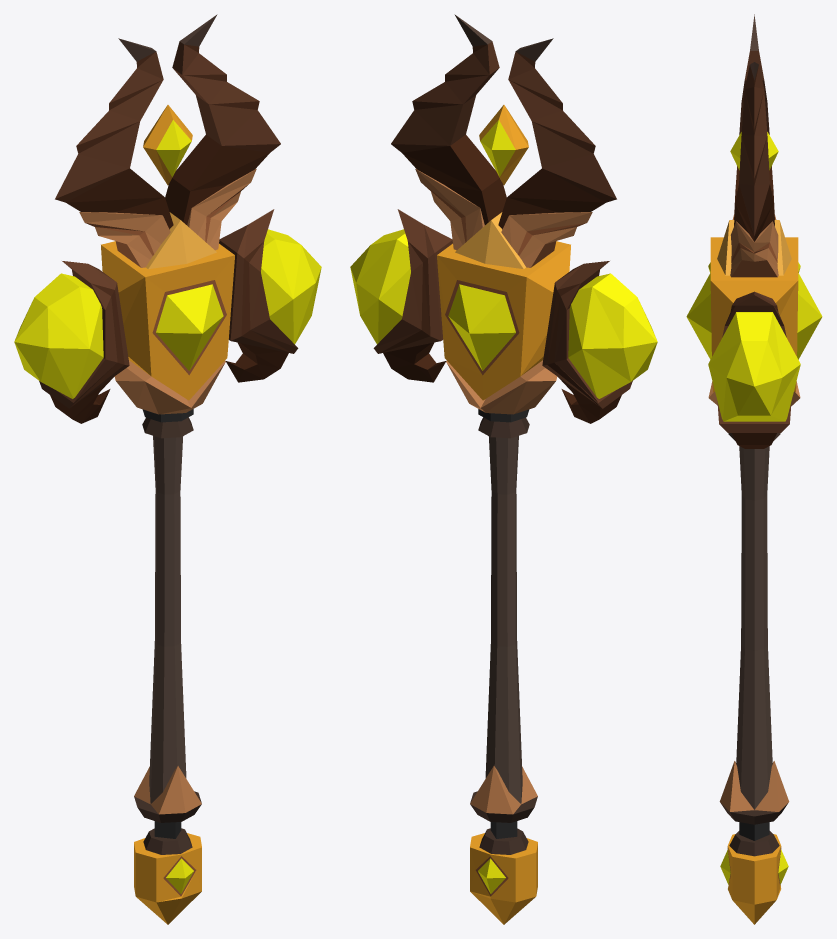
Rendered from Staff 01.FBX.
The picture shows the model from 3 angles, left to right: view 1: azimuth 30°, elevation 25°; view 2: azimuth 150°, elevation 25°; view 3: azimuth 270°, elevation 25°; orthographic projection.
Parts seen in each view (by area): view 1: Staff 01; view 2: Staff 01; view 3: Staff 01.
Boxes of the visible parts, <box> form: Staff 01: <box>14,14,321,924</box>; Staff 01: <box>350,14,657,924</box>; Staff 01: <box>686,14,822,924</box>.
Size of the model in its own units: 63.64 by 24.72 by 178.
Materials: 1 (1 with a texture image).
